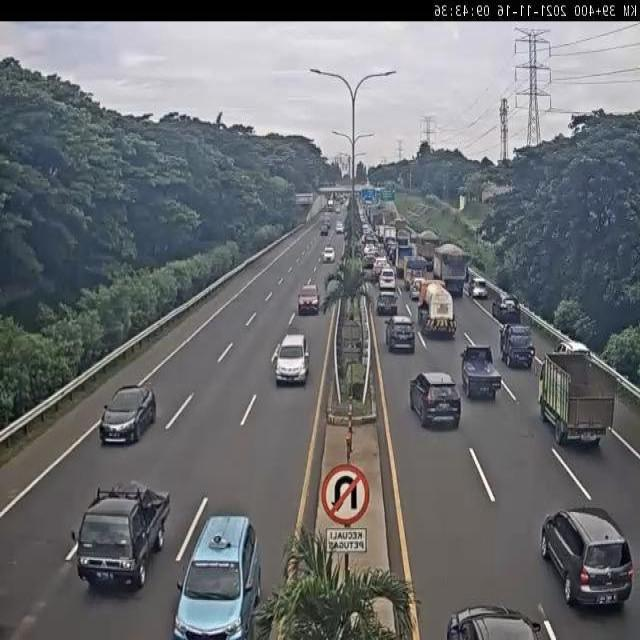Car: (173, 514, 262, 638), (540, 506, 635, 612), (442, 604, 546, 640), (99, 384, 157, 446), (409, 372, 461, 429), (273, 333, 309, 386), (384, 315, 416, 353), (492, 295, 520, 324), (298, 282, 320, 316), (376, 289, 399, 316), (472, 281, 488, 299), (322, 246, 336, 262)
Truck: (76, 480, 170, 590), (538, 353, 617, 448), (415, 280, 458, 341), (460, 344, 502, 400), (434, 240, 470, 296), (499, 323, 535, 368), (434, 196, 437, 200)
